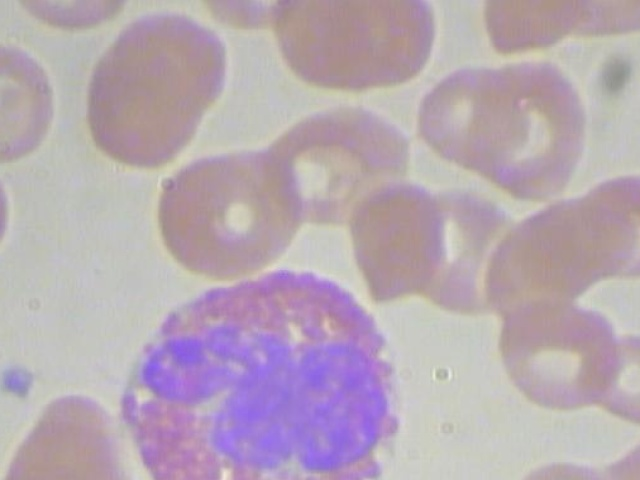Platelets: (0, 355, 42, 405)
RBC: (461, 56, 596, 209), (145, 143, 291, 279), (72, 36, 218, 172), (483, 300, 619, 421), (410, 47, 530, 183), (0, 33, 76, 169)
WBC: (103, 254, 414, 480)
